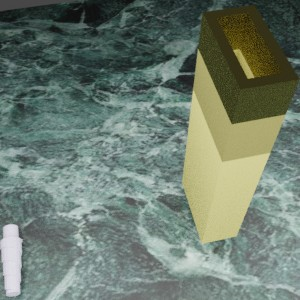lego: (182, 4, 300, 243), (0, 224, 22, 296)
